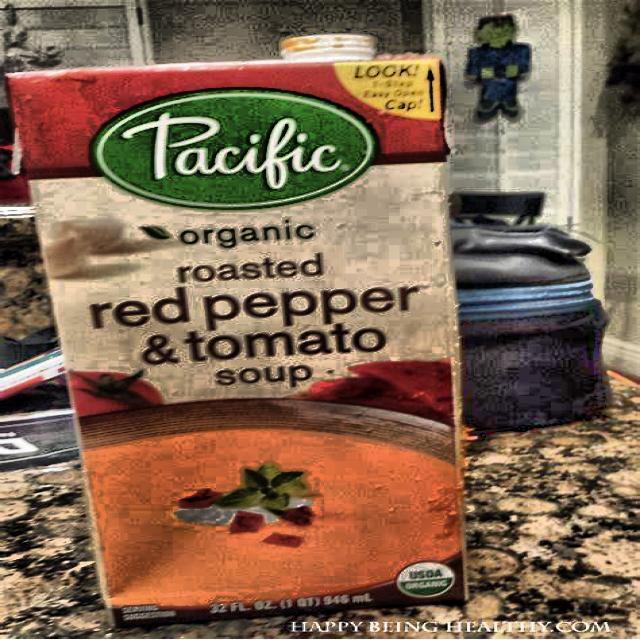cardboard: (4, 52, 470, 628)
